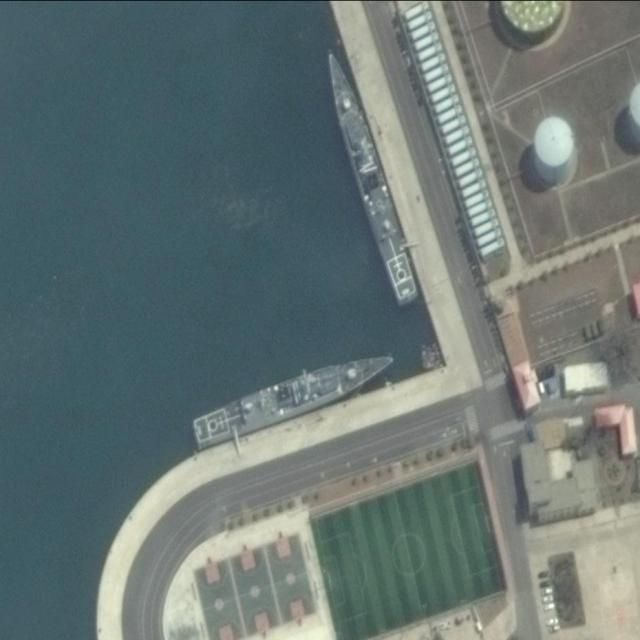Auxiliary Ships: (318, 45, 423, 310), (188, 345, 403, 447)
